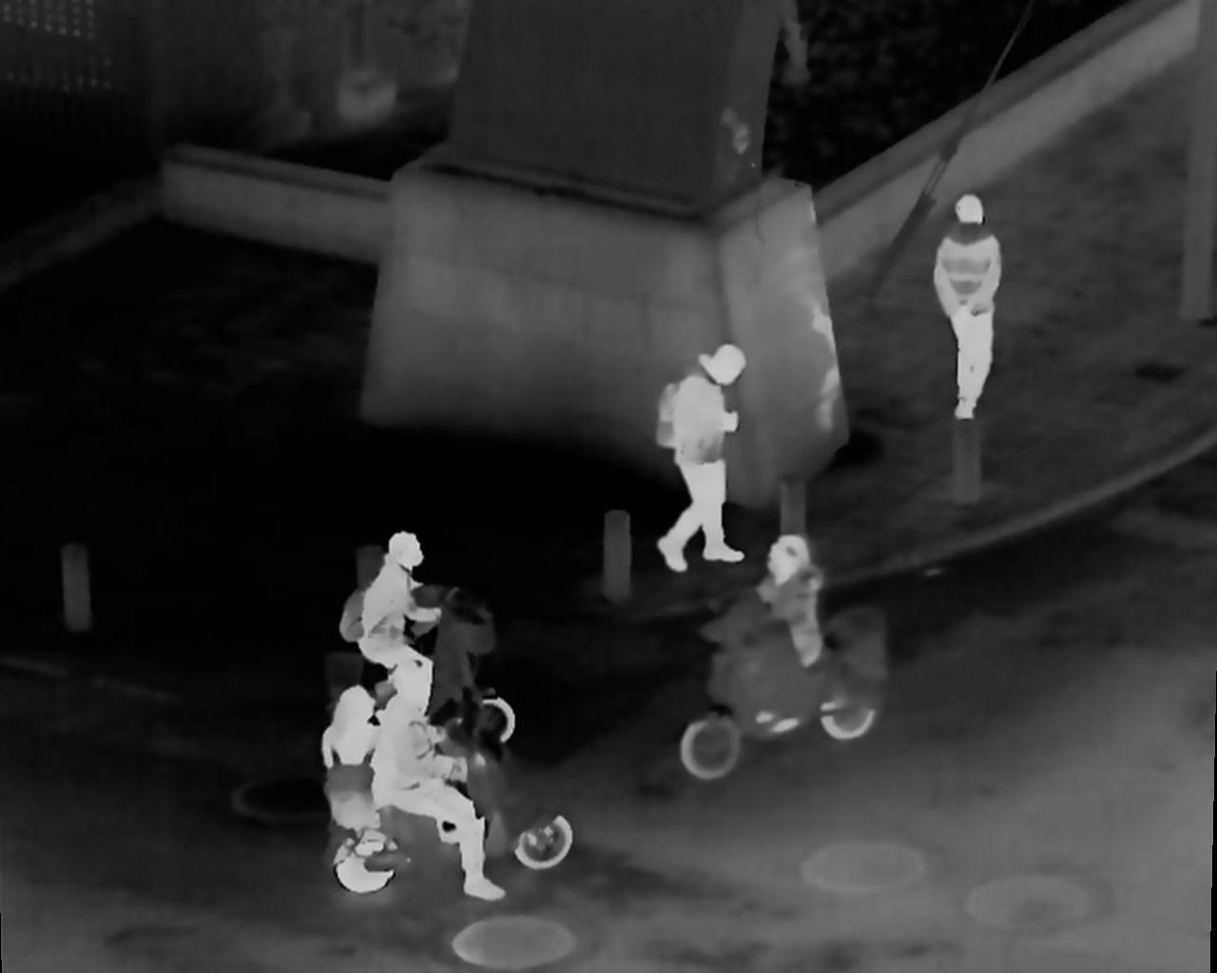person: (373, 685, 505, 908), (340, 528, 445, 702), (667, 344, 739, 560), (941, 190, 1006, 417), (744, 527, 823, 673), (321, 687, 392, 832)
